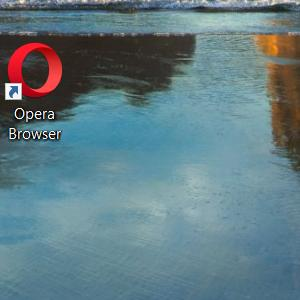opera: (4, 43, 63, 100)
